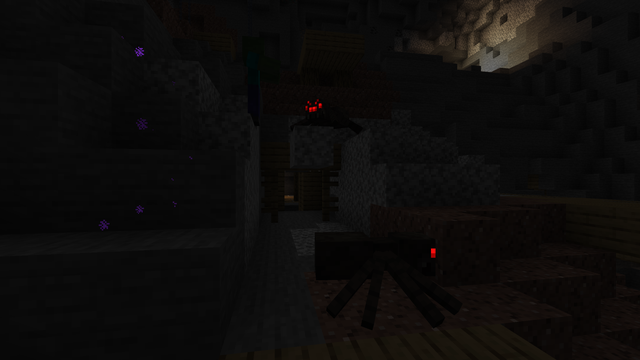araignees: (323, 220, 457, 322), (300, 94, 355, 137)
zombies: (239, 36, 266, 126)
